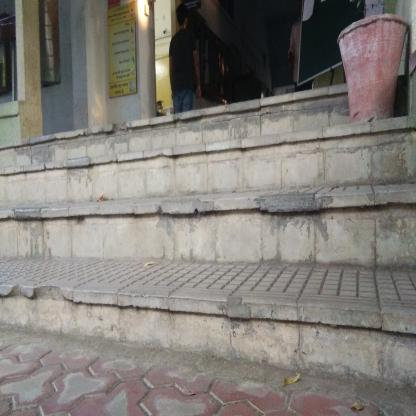stairs: (4, 116, 415, 346)
